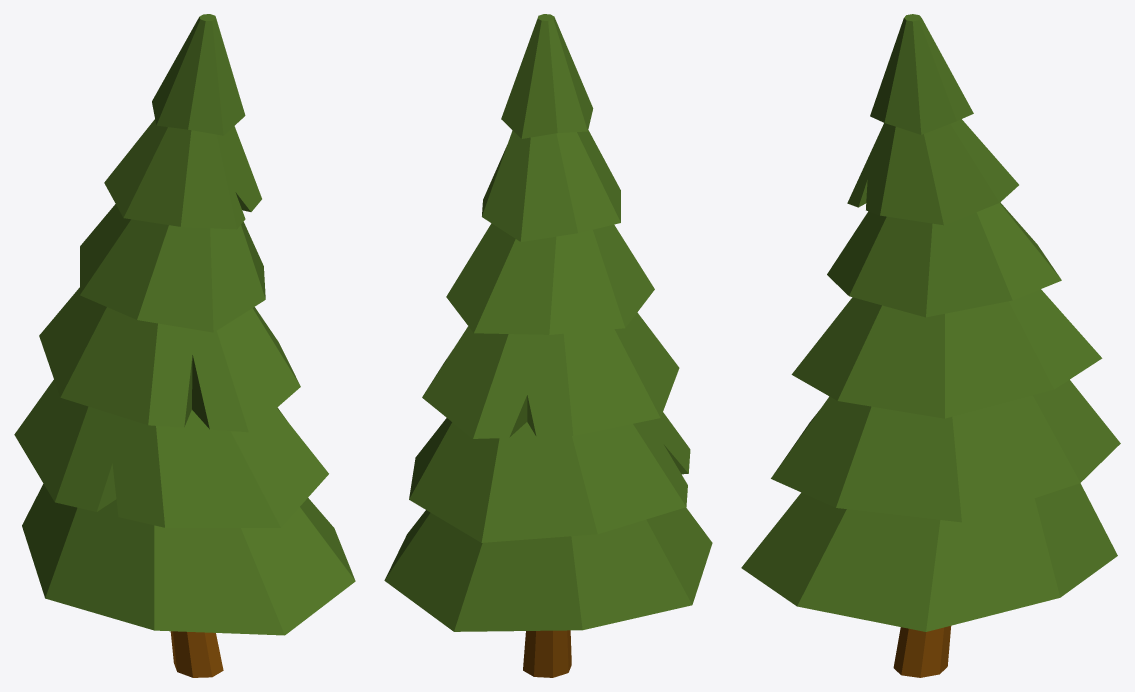
Rendered from Tree2.fbx.
3 renders of one model, left to right at view 1: azimuth 30°, elevation 25°; view 2: azimuth 150°, elevation 25°; view 3: azimuth 270°, elevation 25°, orthographic.
Visible parts, largest first — view 1: Cylinder; view 2: Cylinder; view 3: Cylinder.
Part boxes in pixels (x1,y1,x2,y2): Cylinder: (14, 14, 355, 677); Cylinder: (384, 14, 712, 677); Cylinder: (741, 14, 1120, 677).
Bounding box in the file's own units: 279 × 601 × 317.
